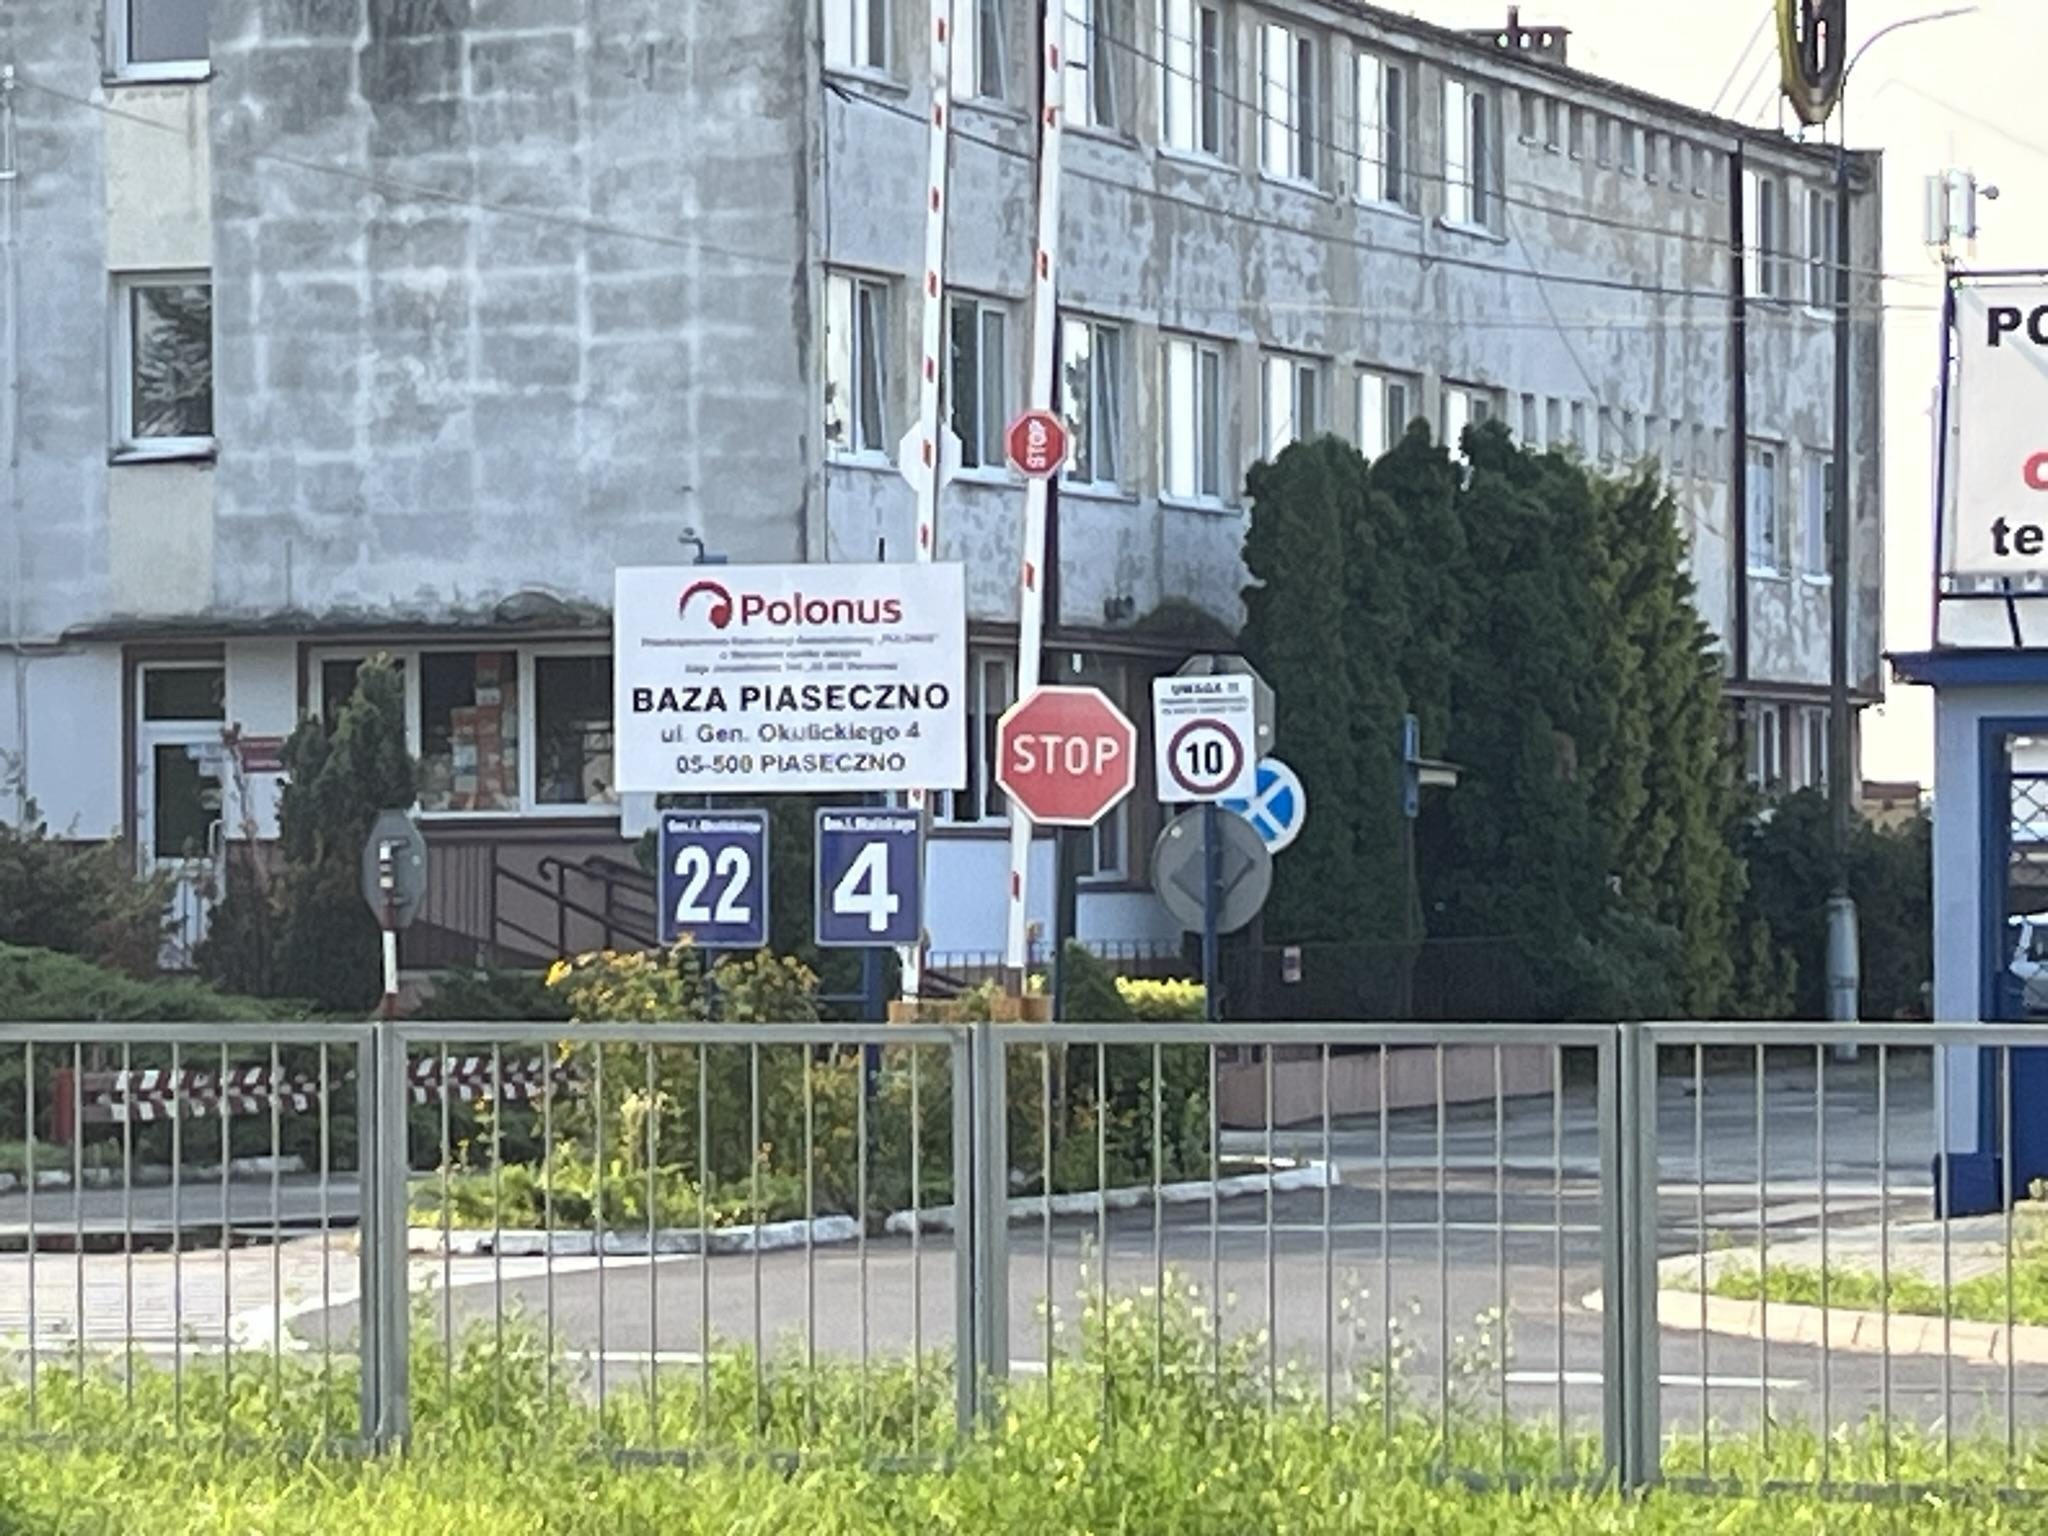prohibitory: (997, 682, 1137, 828), (1009, 413, 1069, 476)
